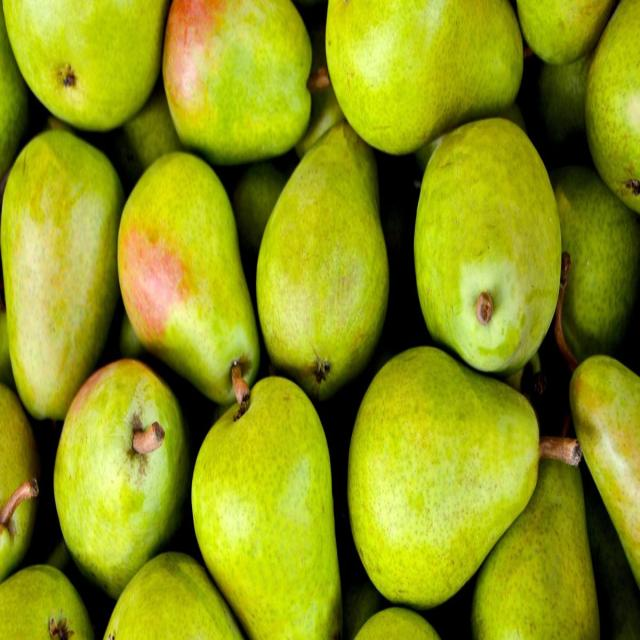pera: (112, 142, 265, 422)
